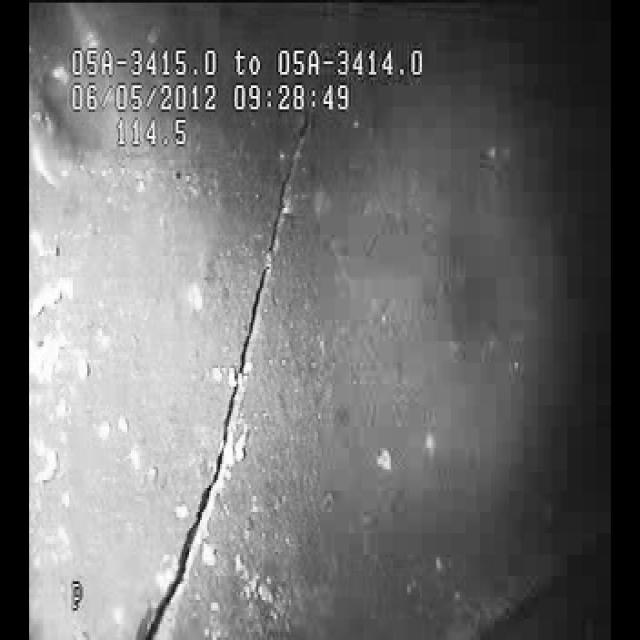Crack: (162, 139, 324, 621)
